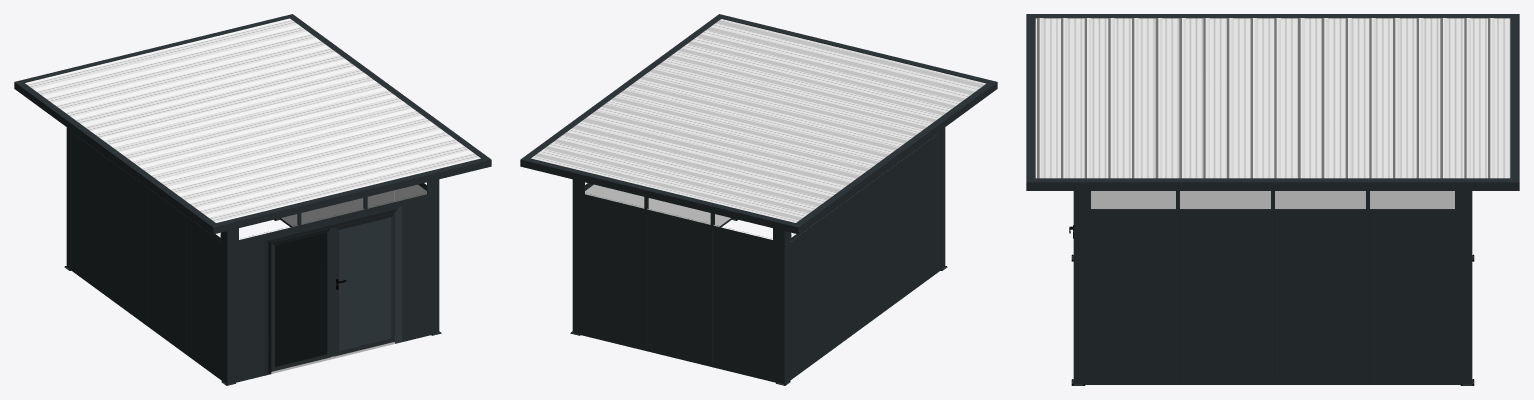
The picture shows the model from 3 angles, left to right: view 1: azimuth 30°, elevation 25°; view 2: azimuth 150°, elevation 25°; view 3: azimuth 270°, elevation 25°; orthographic projection. The views are drawn at different scales.
Parts seen in each view (by area): view 1: priximbattable_net_abris_de_jardin_640005_abri_de_jardin_mim, folha, folha_2, porta_avec_hublot; view 2: priximbattable_net_abris_de_jardin_640005_abri_de_jardin_mim; view 3: priximbattable_net_abris_de_jardin_640005_abri_de_jardin_mim.
Part boxes in pixels (bbox=[...]): priximbattable_net_abris_de_jardin_640005_abri_de_jardin_mim: bbox=[14, 14, 491, 385]; folha: bbox=[271, 227, 335, 371]; folha_2: bbox=[334, 212, 394, 356]; porta_avec_hublot: bbox=[264, 206, 401, 375]; priximbattable_net_abris_de_jardin_640005_abri_de_jardin_mim: bbox=[520, 14, 997, 385]; priximbattable_net_abris_de_jardin_640005_abri_de_jardin_mim: bbox=[1026, 14, 1519, 385].
Bounding box in the file's own units: 420 × 259 × 520.
Materials: 1 (1 with a texture image).
